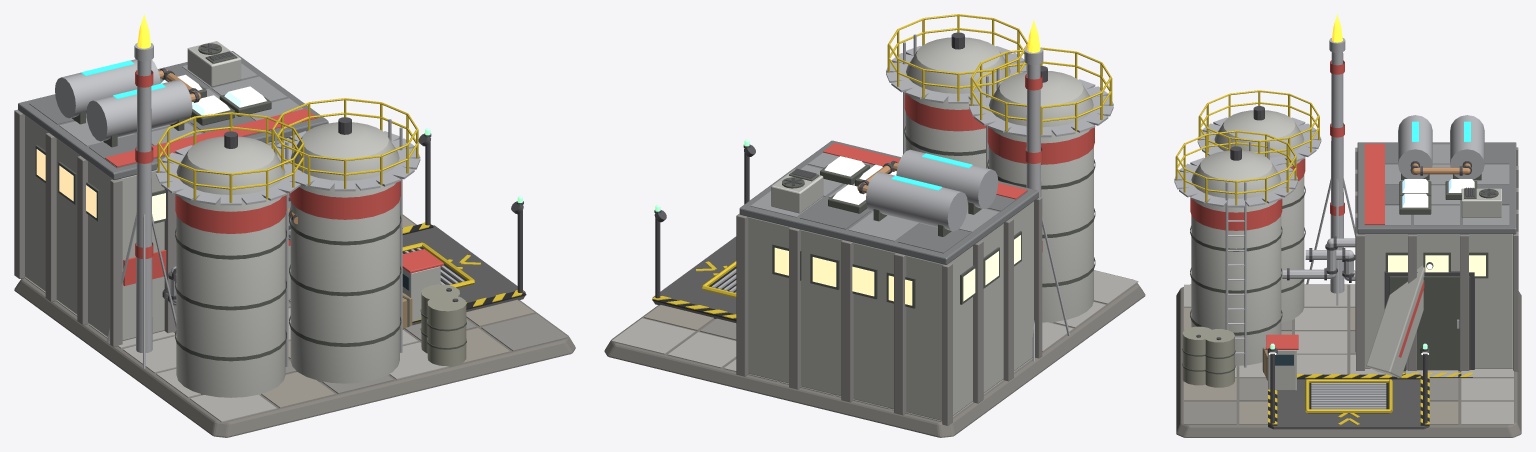
File: refinery_red.glb
3 renders of one model, left to right at view 1: azimuth 30°, elevation 25°; view 2: azimuth 150°, elevation 25°; view 3: azimuth 270°, elevation 25°, orthographic. The views are drawn at different scales.
Parts seen in each view (by area): view 1: Body; view 2: Body; view 3: Body.
Part boxes in pixels (bbox=[...]): Body: bbox=[14, 14, 575, 437]; Body: bbox=[604, 14, 1145, 437]; Body: bbox=[1174, 14, 1521, 437].
Bounding box in the file's own units: 6.06 × 5.5 × 6.01.
Materials: 1 (1 with a texture image).
